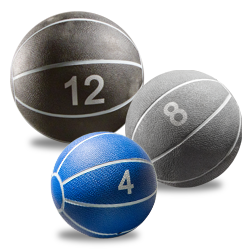blue ball: (50, 130, 159, 239)
